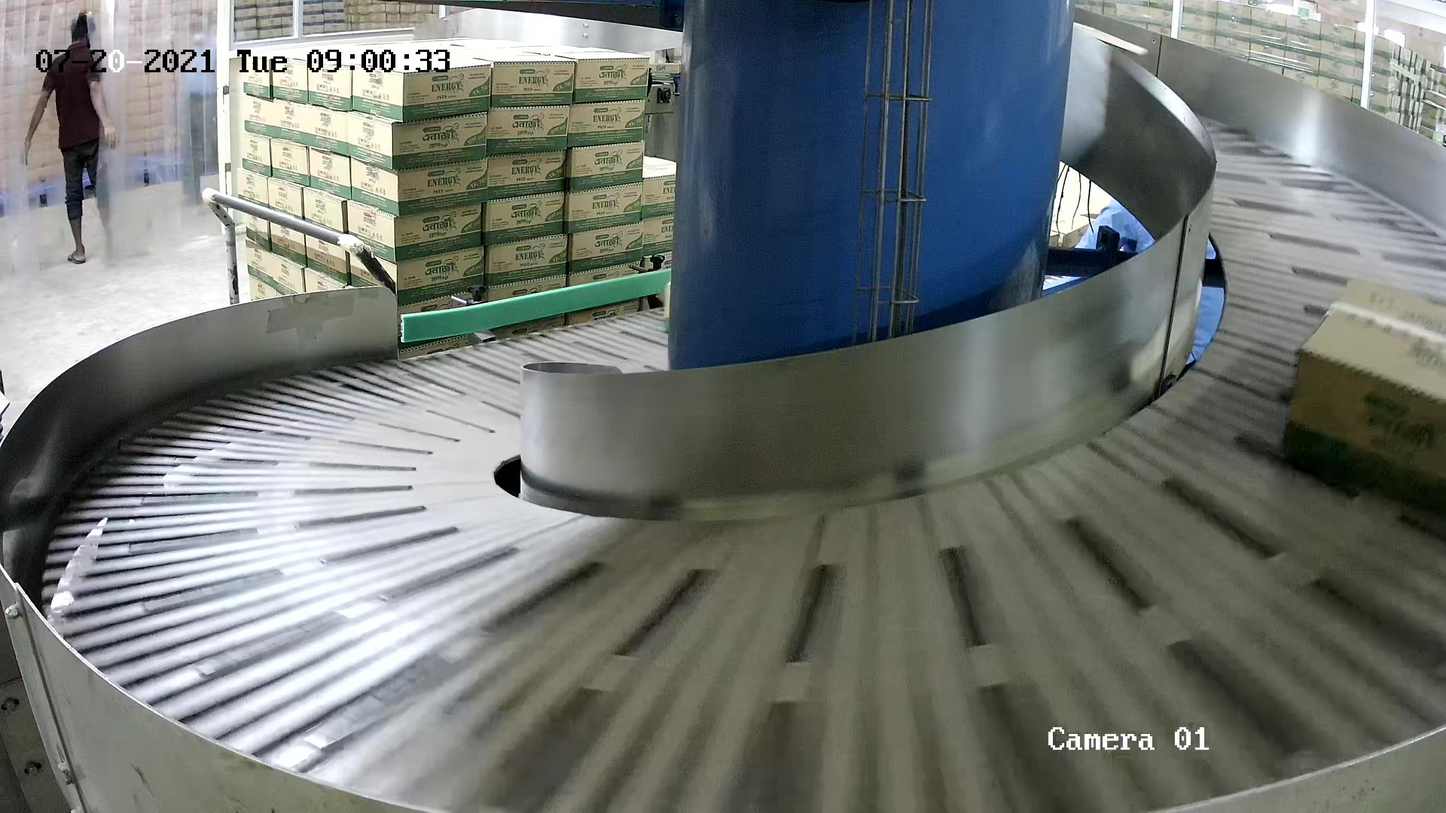Box: (1280, 276, 1446, 509)
